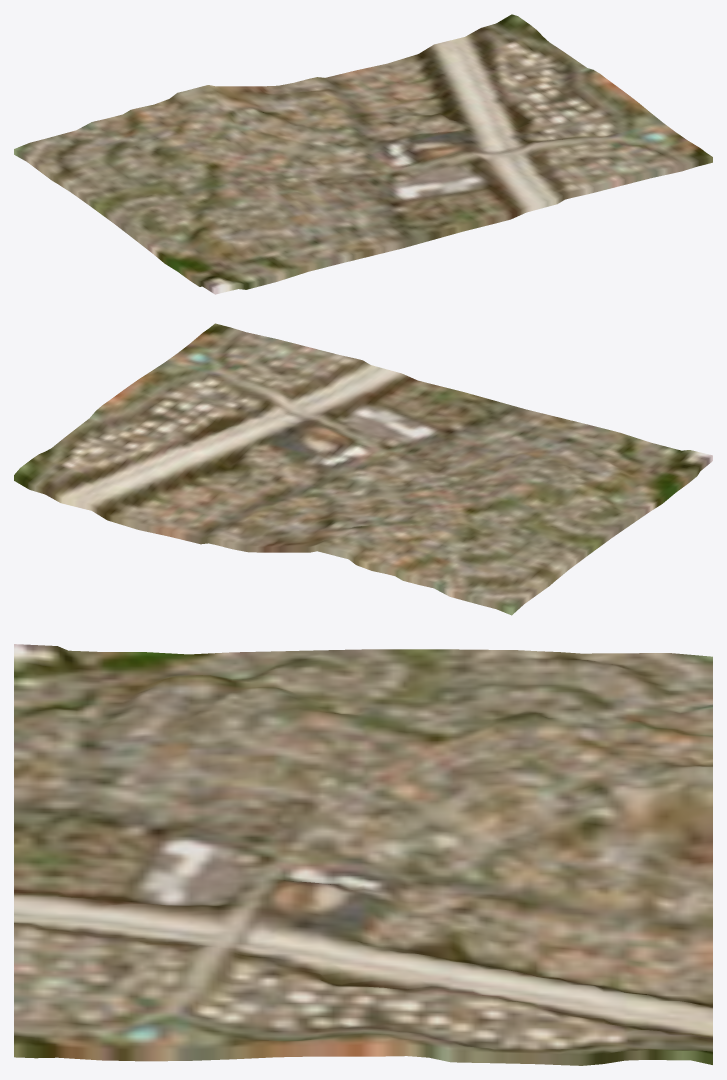
The model's file is terrain_r1_c7_lod2.glb.
3 renders of one model, top to bottom at view 1: azimuth 30°, elevation 25°; view 2: azimuth 150°, elevation 25°; view 3: azimuth 270°, elevation 25°, orthographic. The views are drawn at different scales.
Visible parts, largest first — view 1: terrain_r1_c7_lod2; view 2: terrain_r1_c7_lod2; view 3: terrain_r1_c7_lod2.
Part boxes in pixels (left/top/right/bottom): terrain_r1_c7_lod2: left=14, top=14, right=712, bottom=294; terrain_r1_c7_lod2: left=14, top=323, right=712, bottom=615; terrain_r1_c7_lod2: left=14, top=644, right=712, bottom=1065.
Bounding box in the file's own units: 1125 × 64.14 × 787.
1 material, 1 textured.
